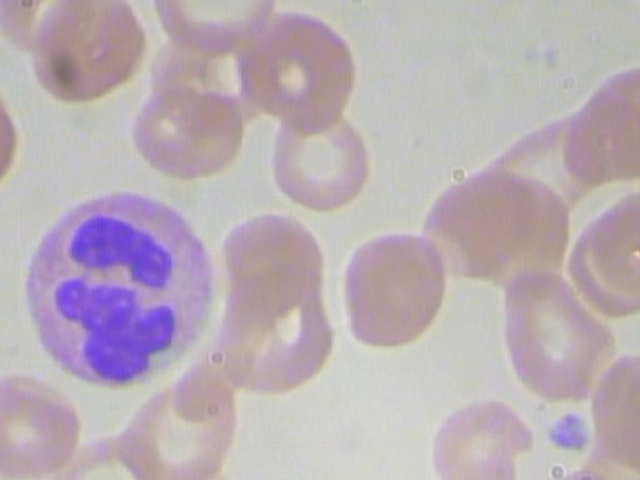Platelets: (541, 411, 595, 460)
RBC: (490, 260, 637, 409), (232, 2, 361, 131), (334, 225, 449, 363), (19, 0, 153, 112), (120, 365, 248, 480), (126, 73, 249, 183), (265, 99, 379, 216), (419, 385, 538, 480), (560, 184, 640, 322), (0, 371, 93, 480), (587, 345, 640, 474)
WBC: (7, 182, 233, 390)
